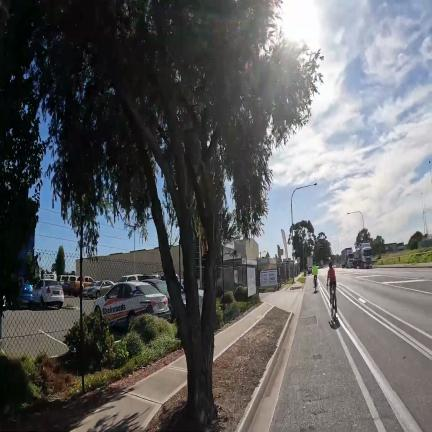Bike_Lane: (270, 293, 400, 432)
